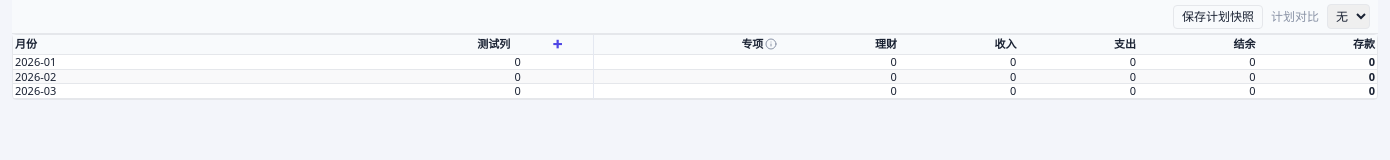
it: MonthlyTable › 右键现金流单元格弹出菜单
// 第一行第一个现金流单元格（月份列之后）
Right-click the 1st cell "0" at (518, 61), box top-left (221, 54), bottom-right (523, 69)
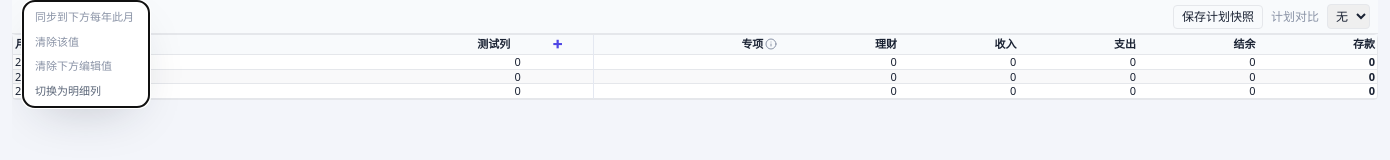
Check: the menu is shown, box top-left (22, 0), bottom-right (150, 108)
Check: the text "清除下方编辑值" is shown, box top-left (23, 54), bottom-right (149, 78)
